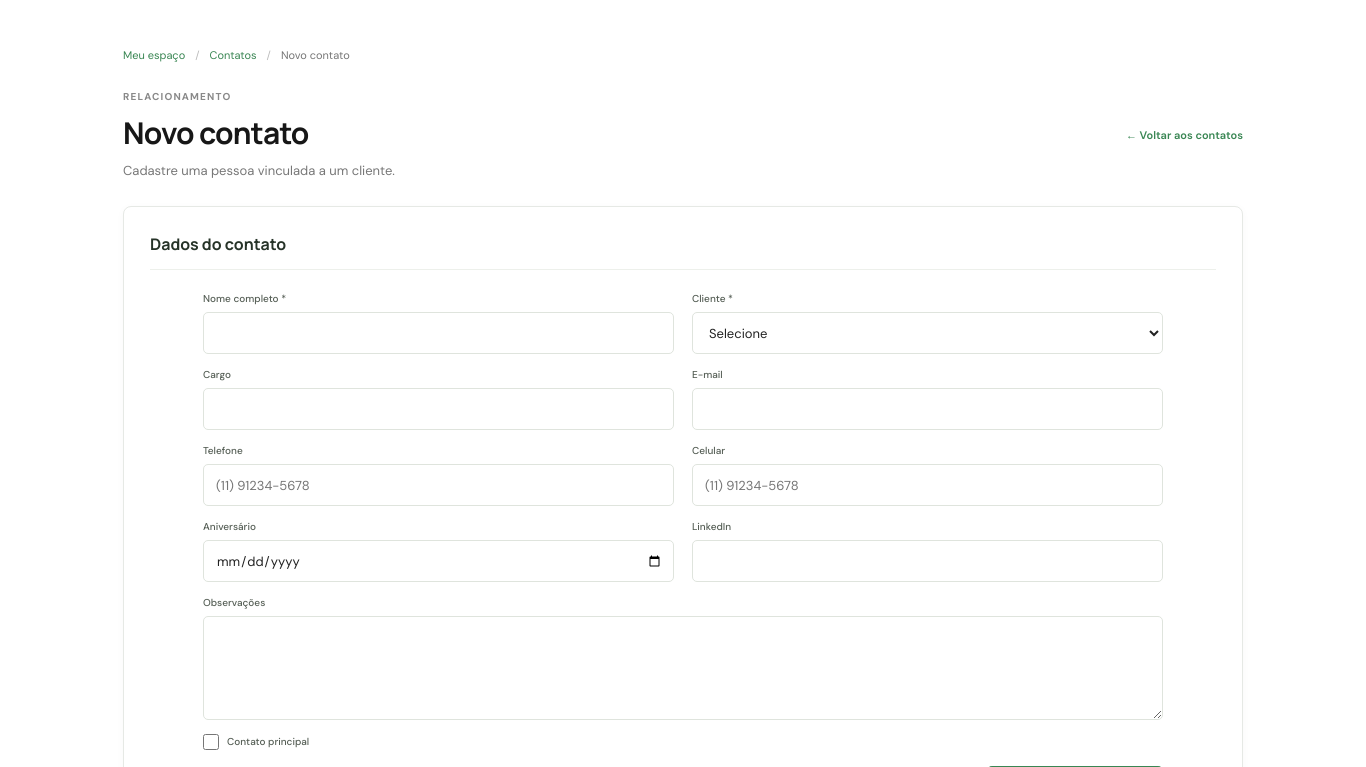
Test: Novo contato › exibe a mensagem da API e permanece no formulário em caso de erro
Type "Ana Souza" into the field labelled "Nome completo *".
click(438, 333); type("Ana Souza")  # box [203,312,674,354]
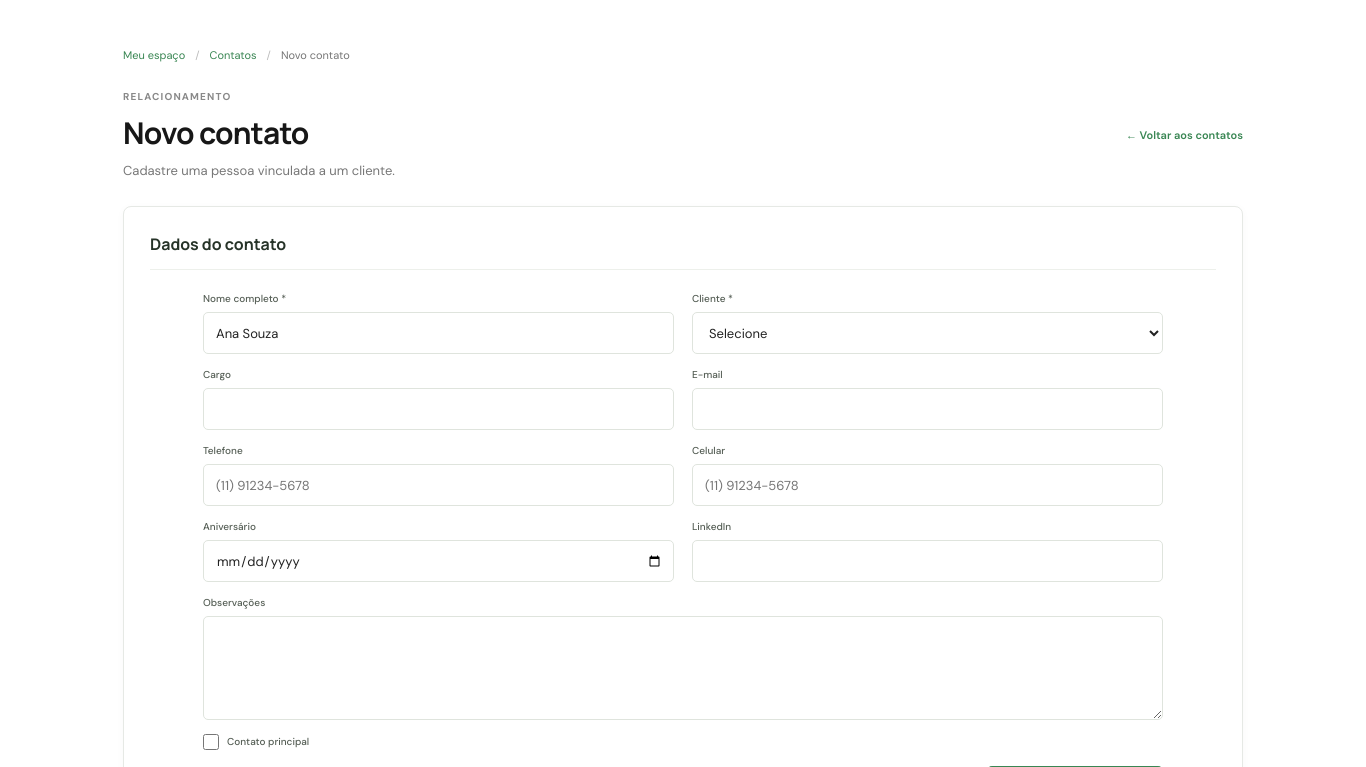
Select "Aurora Tecnologia" in the dropdown labelled "Cliente *" at (928, 333), box [692,312,1163,354]
(page scrolled)
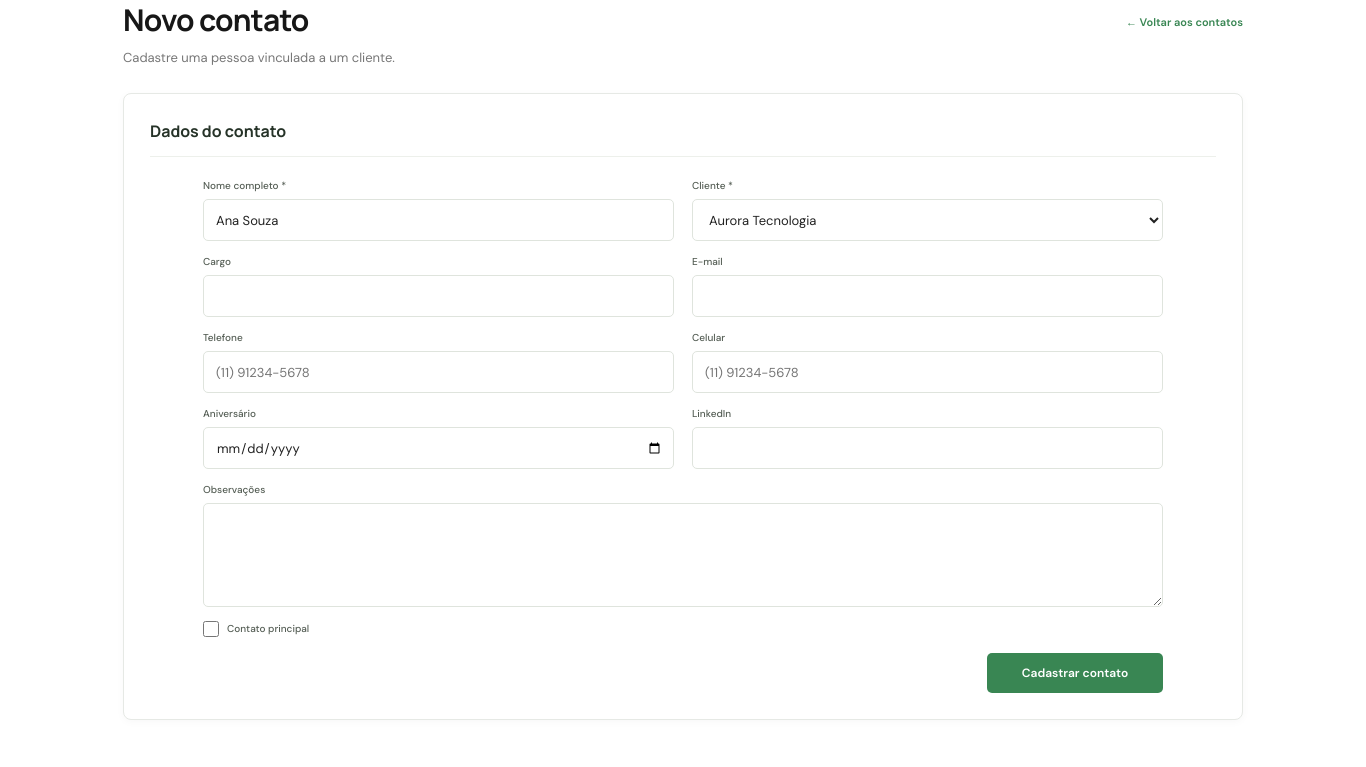
Click the button "Cadastrar contato".
click(1075, 673)  # box [987,653,1163,693]
(page scrolled)
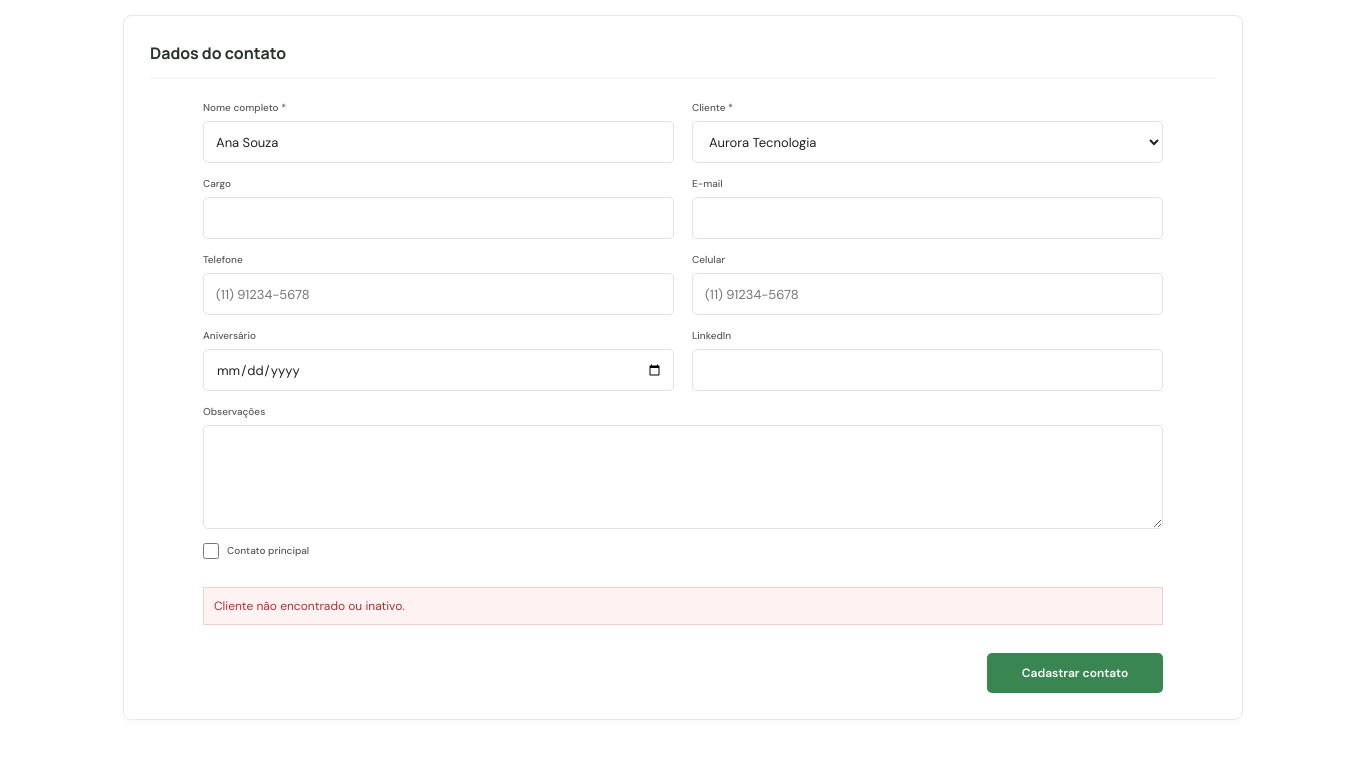
Expected: the message reads "Cliente não encontrado ou inativo.", [214,598,405,614]
